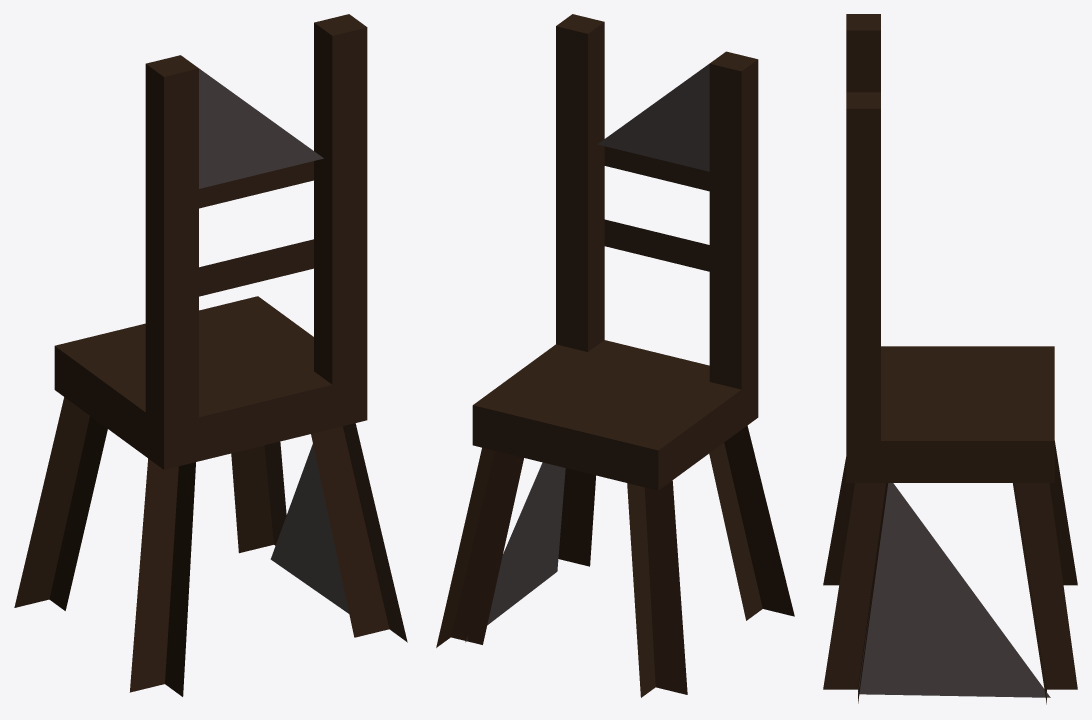
Rendered from obj_chair_9_0.obj.
3 views of the same model, side by side, from view 1: azimuth 30°, elevation 25°; view 2: azimuth 150°, elevation 25°; view 3: azimuth 270°, elevation 25° (orthographic). The views are drawn at different scales.
Bounding box in the file's own units: 0.5781 × 1.3 × 0.5156.
